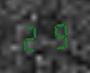nine: (45, 20, 70, 50)
two: (19, 22, 44, 52)
